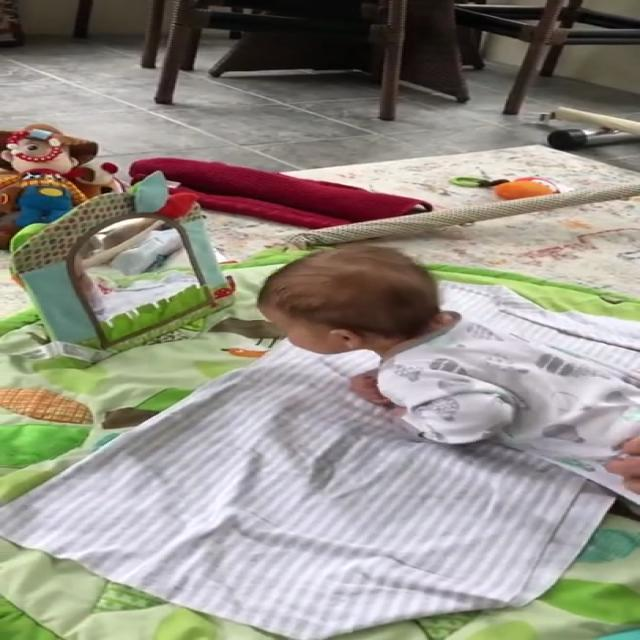baby: (240, 241, 640, 495)
